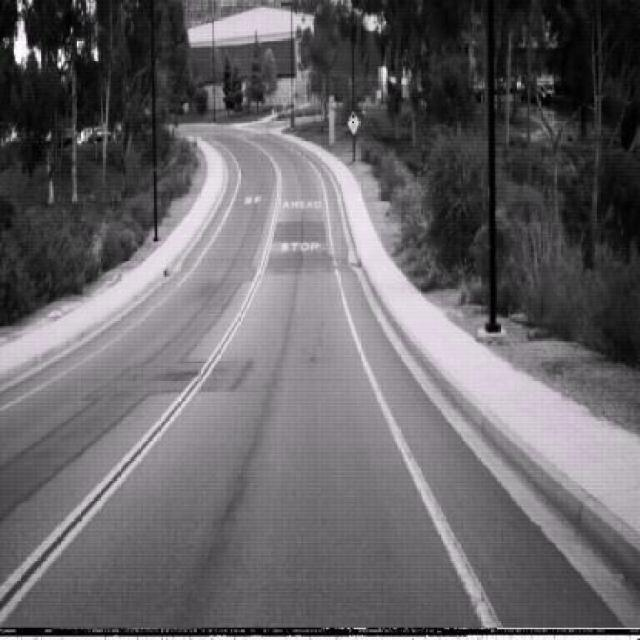stopAhead: (346, 109, 360, 135)
